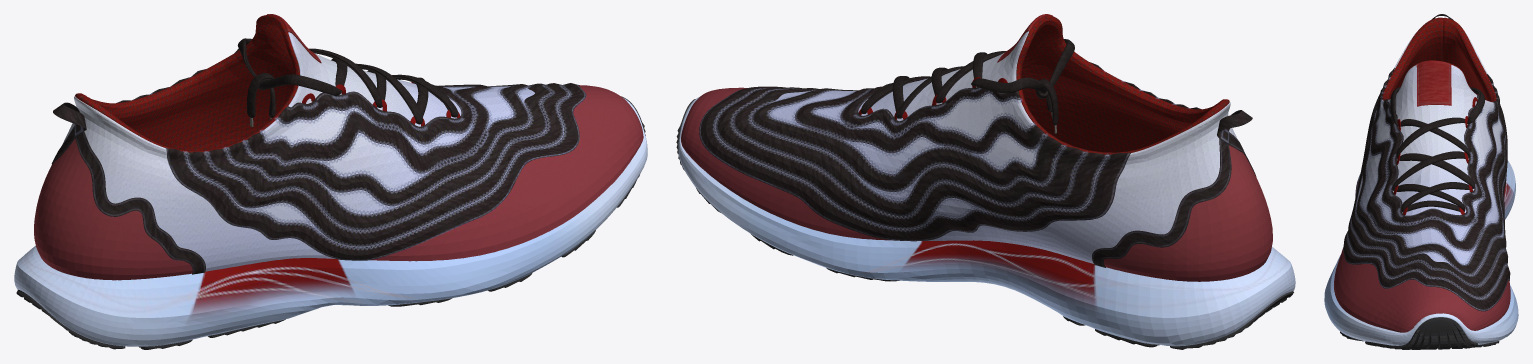
Rendered from dvor02.glb.
3 renders of one model, left to right at view 1: azimuth 30°, elevation 25°; view 2: azimuth 150°, elevation 25°; view 3: azimuth 270°, elevation 25°, orthographic. The views are drawn at different scales.
Visible parts, largest first — view 1: sock, waves, midsole, lining, laces, heel, outsole; view 2: waves, sock, midsole, lining, laces, heel, outsole; view 3: sock, waves, laces, lining, midsole, outsole, tab, loops.
Boxes of the visible parts, <box> form: sock: <box>34,32,643,280</box>; waves: <box>116,48,586,260</box>; midsole: <box>14,98,647,346</box>; lining: <box>75,15,299,152</box>; laces: <box>237,38,458,126</box>; heel: <box>51,102,205,274</box>; outsole: <box>16,96,645,349</box>; waves: <box>699,62,1201,241</box>; sock: <box>681,31,1272,281</box>; midsole: <box>678,97,1295,346</box>; lining: <box>1016,15,1229,154</box>; laces: <box>861,39,1074,133</box>; heel: <box>1092,110,1256,267</box>; outsole: <box>676,99,1293,349</box>; sock: <box>1334,31,1510,332</box>; waves: <box>1343,68,1510,311</box>; laces: <box>1390,87,1485,212</box>; lining: <box>1382,17,1496,102</box>; midsole: <box>1324,160,1518,345</box>; outsole: <box>1340,317,1499,349</box>; tab: <box>1416,60,1451,106</box>; loops: <box>1390,97,1477,215</box>.
Size of the model in its own units: 1 by 0.4225 by 0.3681.
Materials: 9 (9 with a texture image).
